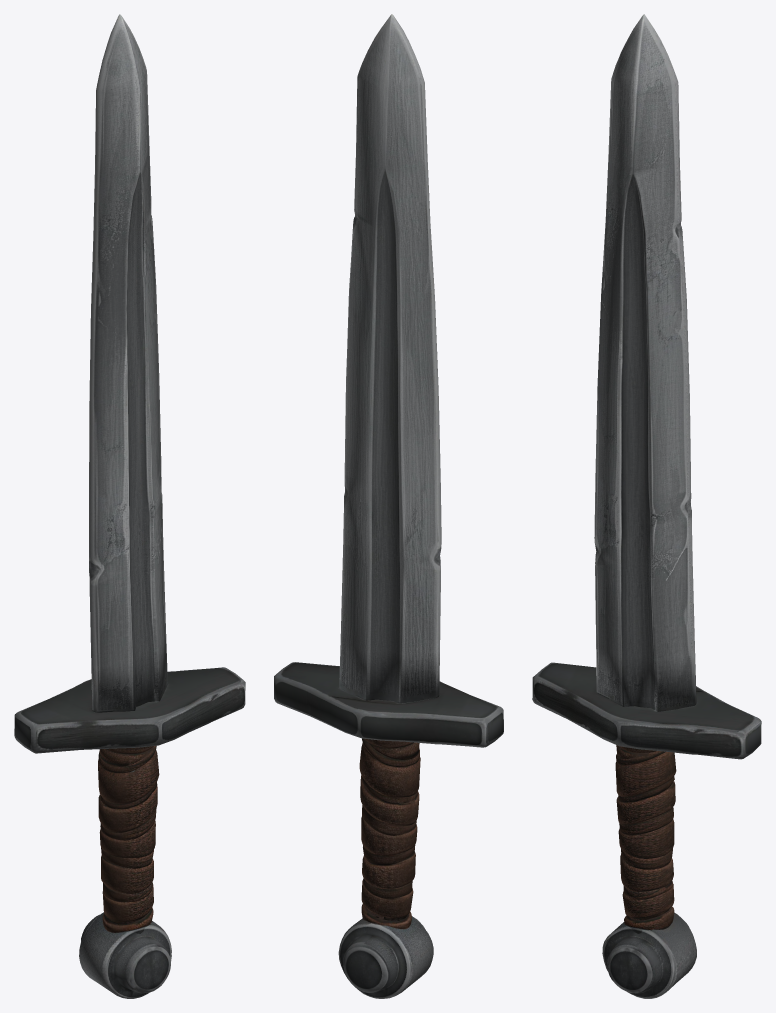
Rendered from weapon-sword-longsword-starter-v001.glb.
3 renders of one model, left to right at view 1: azimuth 30°, elevation 25°; view 2: azimuth 150°, elevation 25°; view 3: azimuth 330°, elevation 25°, orthographic.
Visible parts, largest first — view 1: weapon-sword-longsword-starter-v001; view 2: weapon-sword-longsword-starter-v001; view 3: weapon-sword-longsword-starter-v001.
Boxes of the visible parts, <box> form: weapon-sword-longsword-starter-v001: <box>14,14,245,998</box>; weapon-sword-longsword-starter-v001: <box>274,14,503,998</box>; weapon-sword-longsword-starter-v001: <box>532,14,761,998</box>.
Bounding box in the file's own units: 0.2416 × 1.05 × 0.1143.
Materials: 1 (1 with a texture image).
